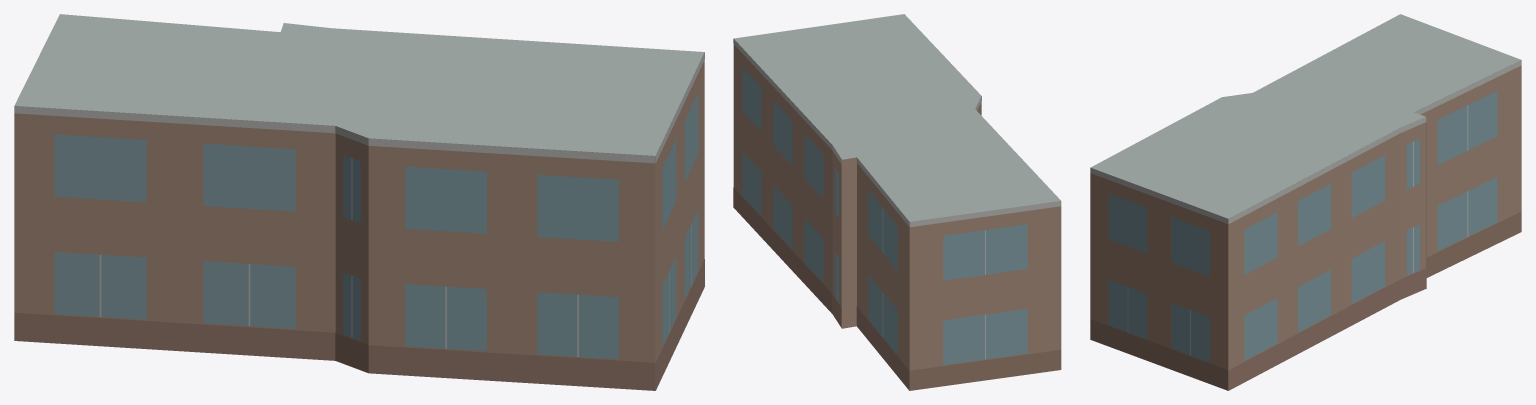
The model's file is survey-upis-32516493.glb.
3 views of the same model, side by side, from view 1: azimuth 30°, elevation 25°; view 2: azimuth 150°, elevation 25°; view 3: azimuth 270°, elevation 25° (orthographic). The views are drawn at different scales.
Visible parts, largest first — view 1: survey-upis-32516493.tmp; view 2: survey-upis-32516493.tmp; view 3: survey-upis-32516493.tmp.
Part boxes in pixels (x1,y1,x2,y2): survey-upis-32516493.tmp: [14, 14, 704, 390]; survey-upis-32516493.tmp: [733, 14, 1061, 390]; survey-upis-32516493.tmp: [1090, 14, 1521, 390].
Size of the model in its own units: 19.66 by 7.7 by 17.5.
